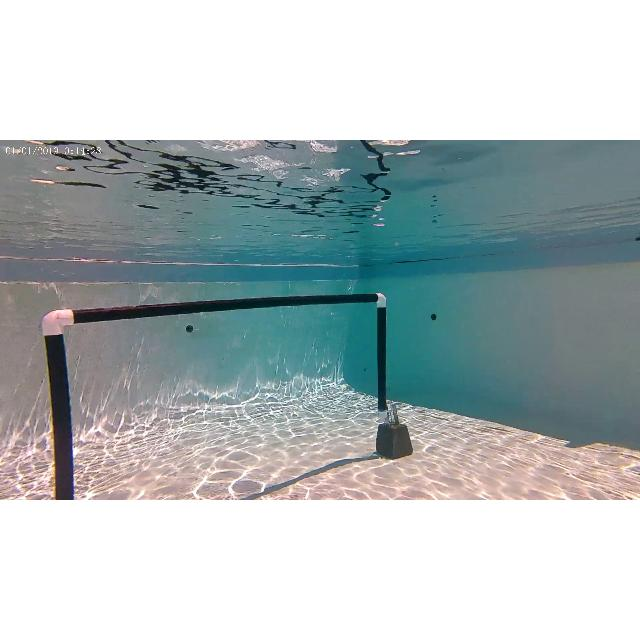prequal gate: (43, 292, 389, 500)
prequal gate leg l: (38, 306, 88, 500)
prequal gate leg r: (374, 292, 390, 421)
